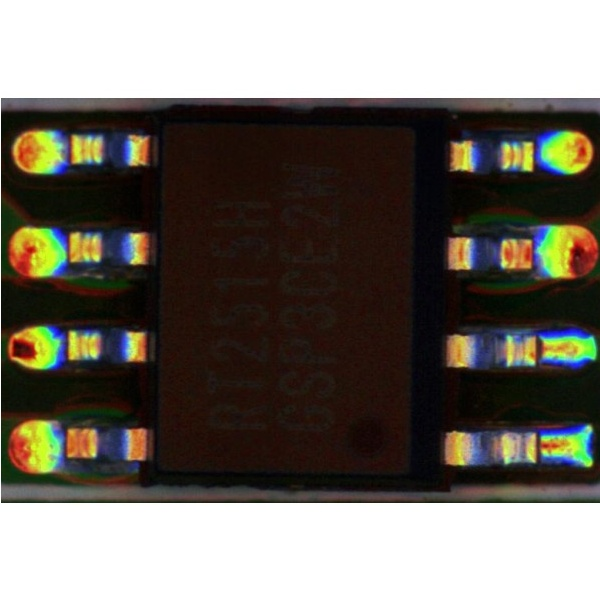Bad_podu: (524, 432, 565, 456), (521, 342, 565, 358)
